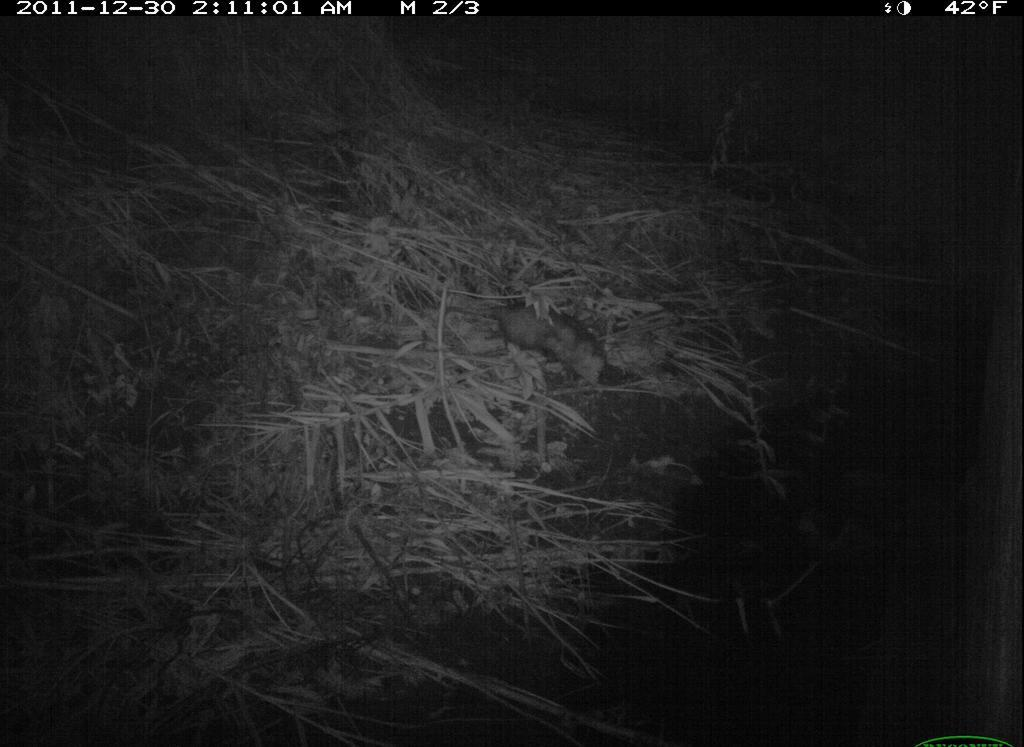opossum: (461, 281, 610, 393)
